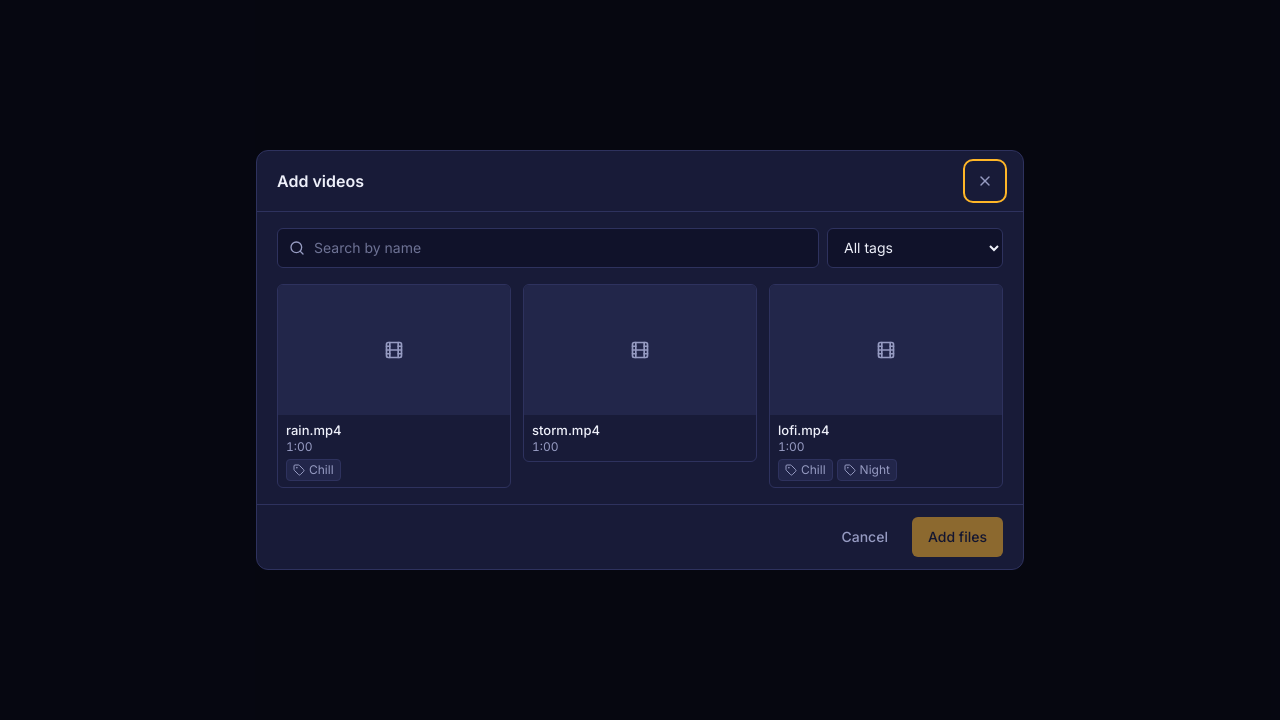
MediaPicker tag filter (ML-8) › narrows the files to pick by tag
Expected: the text "storm.mp4" is shown, top-left (532, 422), bottom-right (600, 438)
Select "Chill (2)" in the dropdown named "Tag" at [915, 248], box top-left (827, 228), bottom-right (1003, 268)
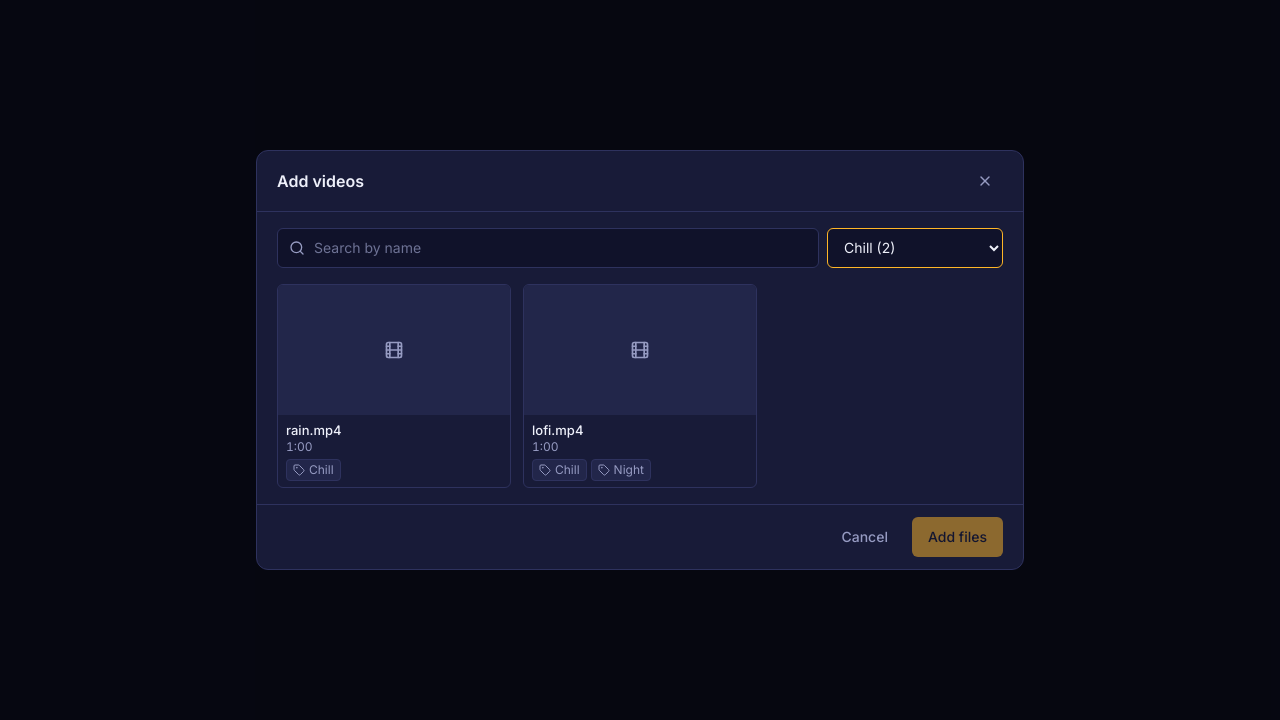
Expected: the text "rain.mp4" is shown, top-left (286, 422), bottom-right (342, 438)
Result: the button "storm.mp4" is gone
